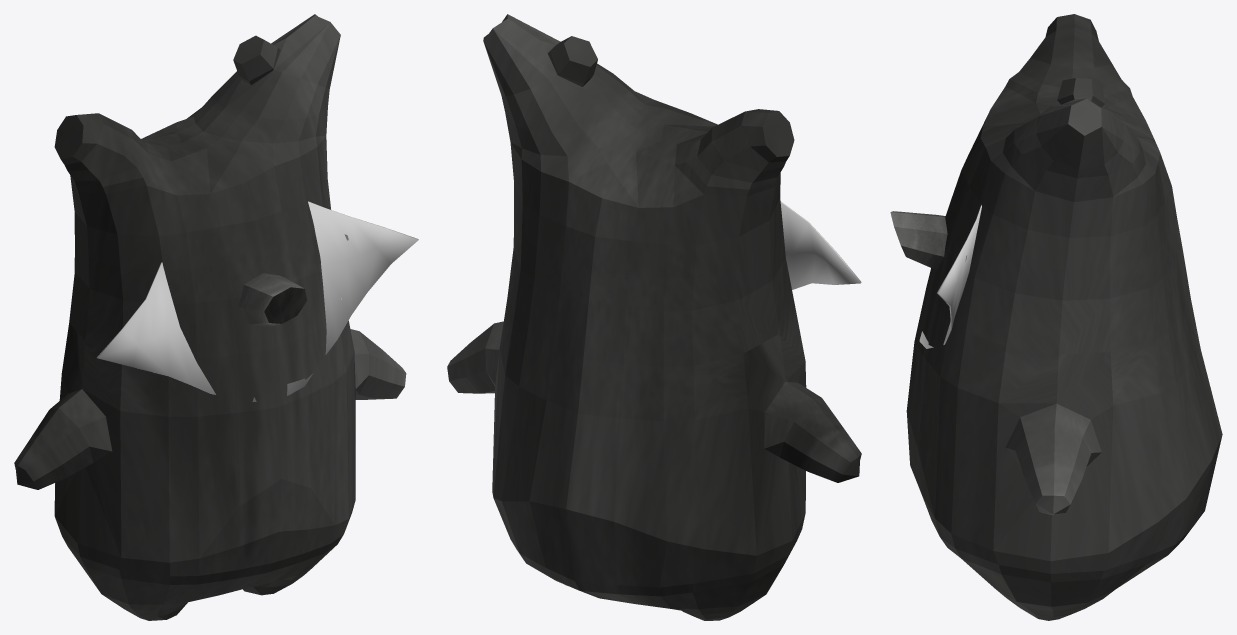
File: frame_0002.obj
3 views of the same model, side by side, from view 1: azimuth 30°, elevation 25°; view 2: azimuth 150°, elevation 25°; view 3: azimuth 270°, elevation 25° (orthographic). The views are drawn at different scales.
Parts seen in each view (by area): view 1: korok, leaf, nose; view 2: korok, leaf; view 3: korok, nose, leaf.
Part boxes in pixels (x1,y1,x2,y2): korok: (14,14,406,620); leaf: (97,201,418,401); nose: (238,273,307,326); korok: (447,14,861,620); leaf: (780,201,861,289); korok: (906,14,1222,620); nose: (890,211,947,269); leaf: (919,205,981,348).
Bounding box in the file's own units: 1.68 × 2.25 × 1.23.
